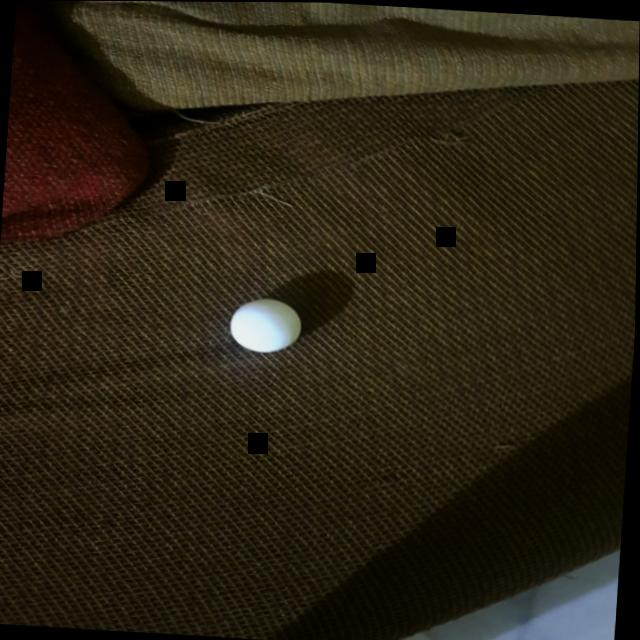eggs: (224, 293, 314, 361)
